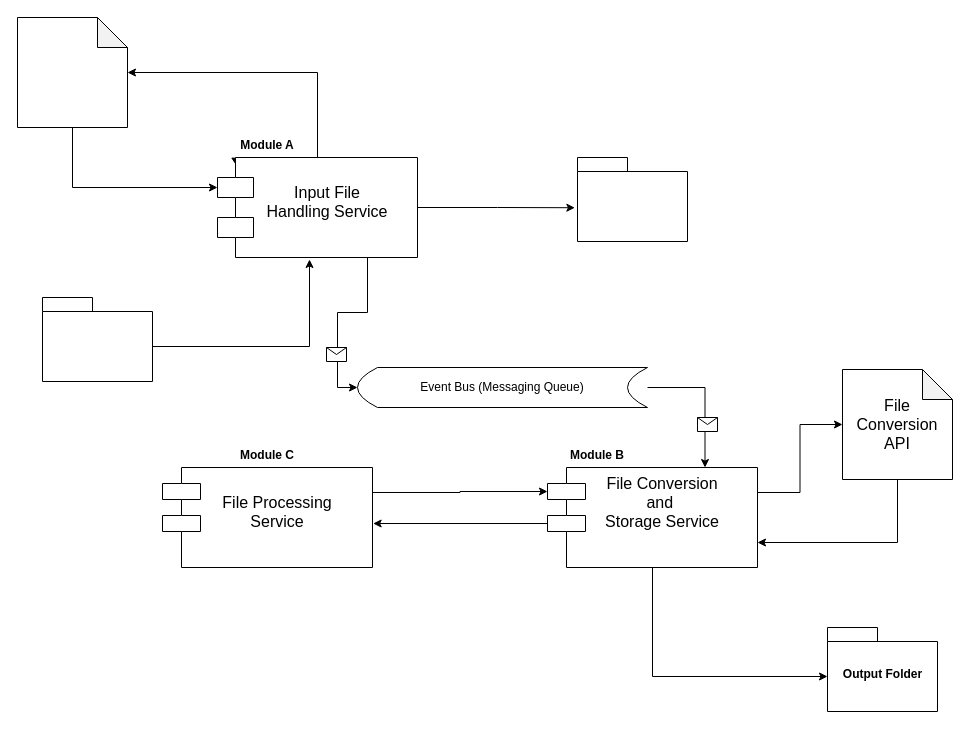
This 970x729 diagram has some shape labels left out. The shapes that lost their labels are listed below. From the top down, each one's centre as x and y in pixels, then its label:
At (x=72, y=72): "Validation API".
At (x=632, y=199): "Discarded Files".
At (x=97, y=339): "Input Folder".
